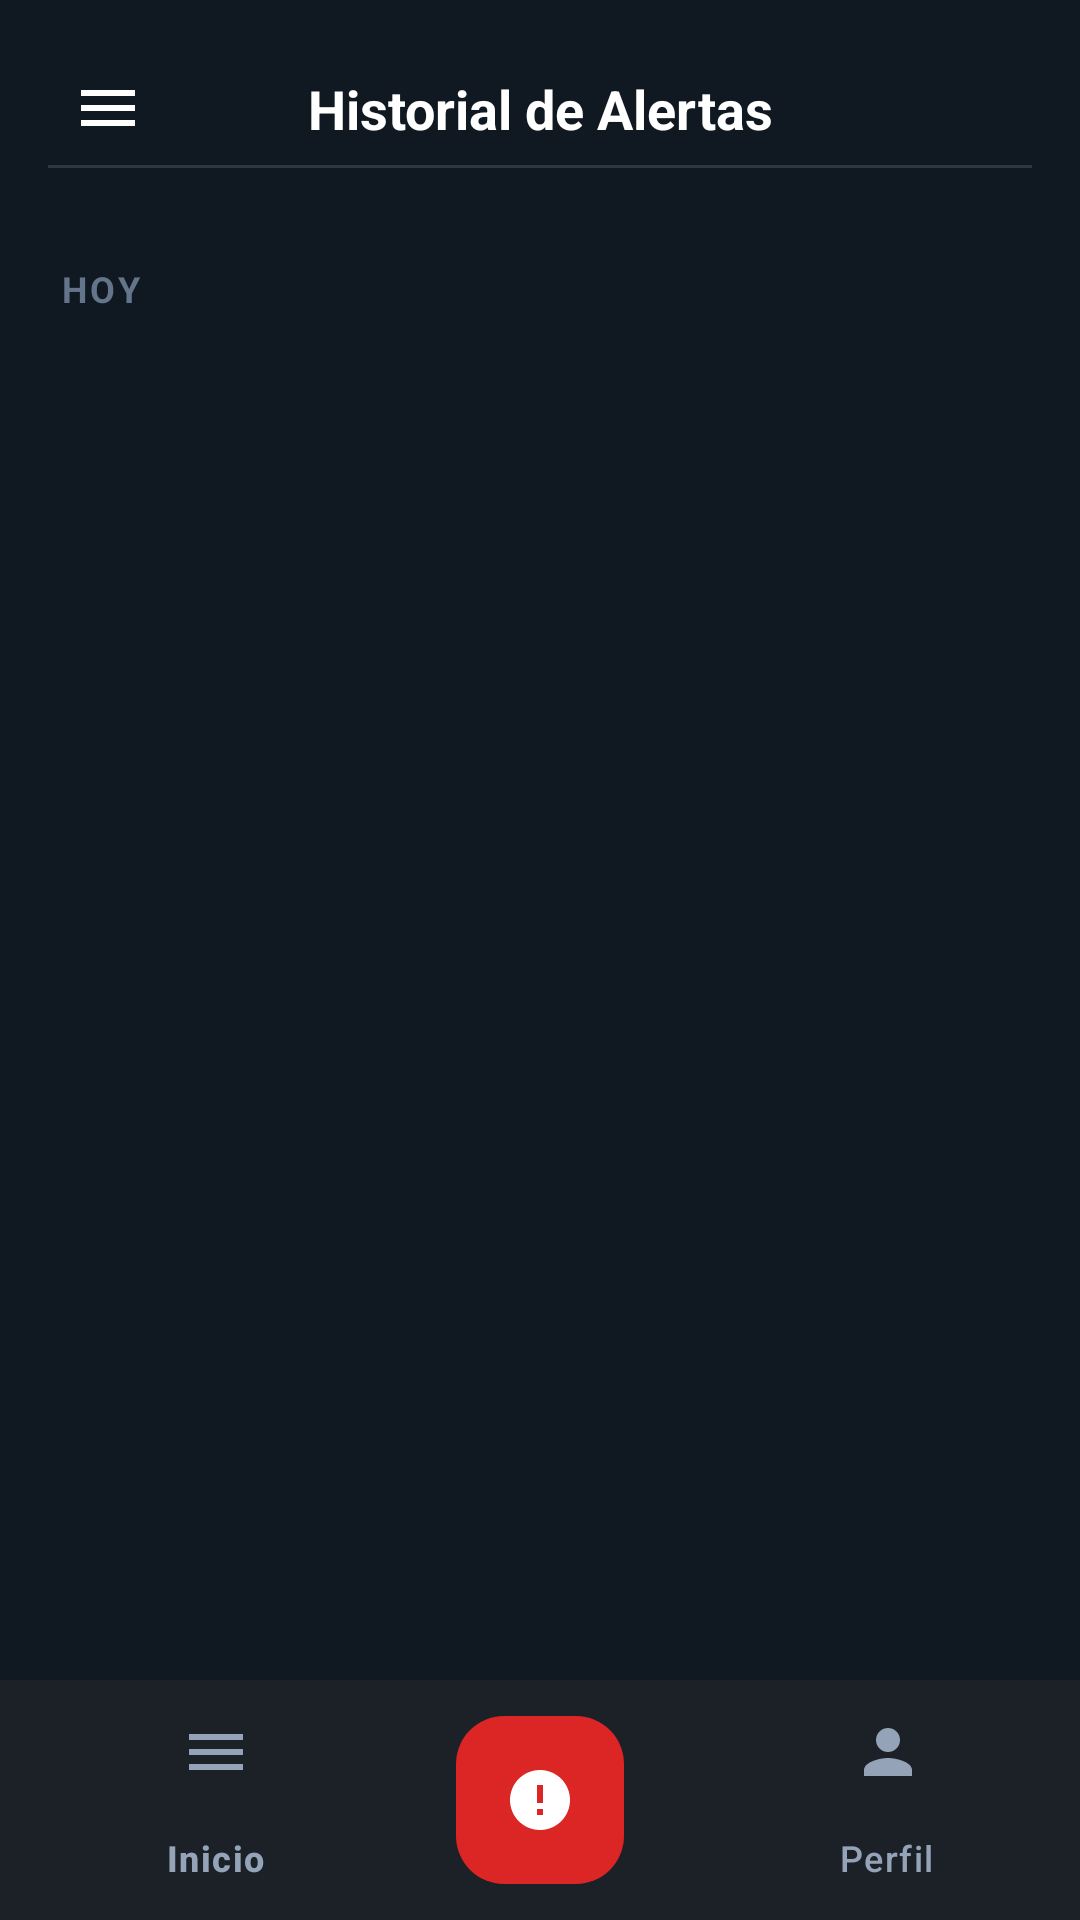

Named icons in this screenshot (1080x1920) and their bounding boxes, BBox(x1, y1, x2, y2):
menu: BBox(81, 90, 135, 126)
